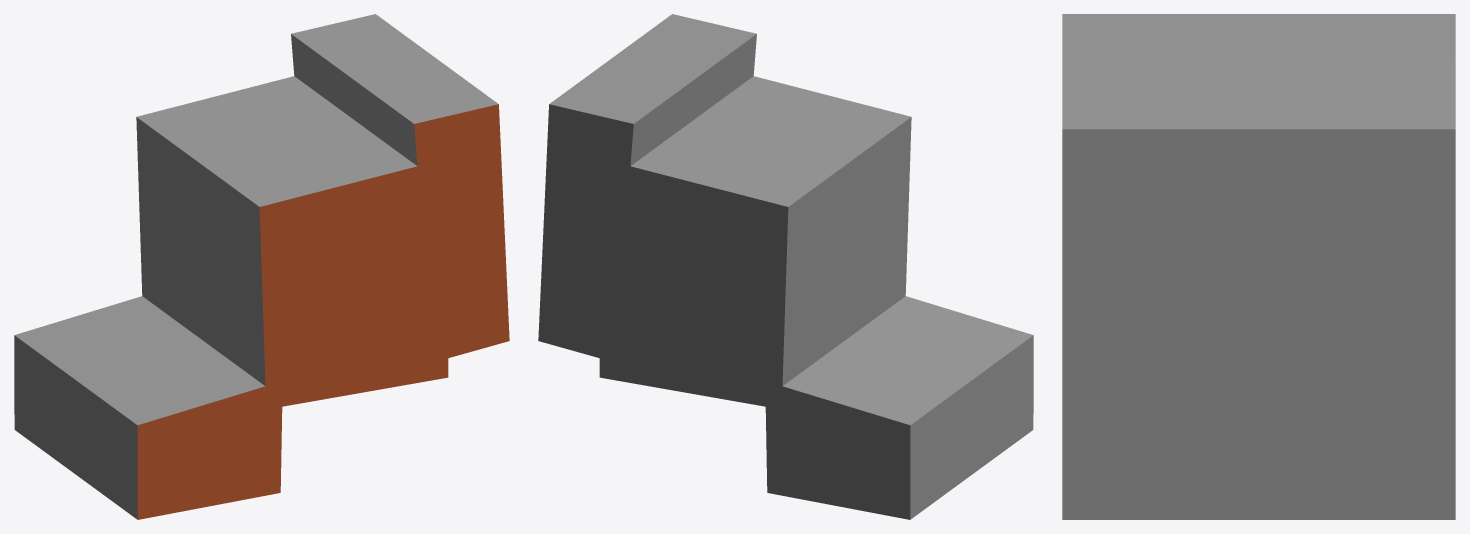
The model's file is construction_4972_assumed_A_Casa_h6m.obj.
3 renders of one model, left to right at view 1: azimuth 30°, elevation 25°; view 2: azimuth 150°, elevation 25°; view 3: azimuth 270°, elevation 25°, orthographic. The views are drawn at different scales.
Parts seen in each view (by area): view 1: construction_4972_assumed_A_Casa; view 2: construction_4972_assumed_A_Casa; view 3: construction_4972_assumed_A_Casa.
Boxes of the visible parts, bbox=[...] form: construction_4972_assumed_A_Casa: bbox=[14, 14, 509, 519]; construction_4972_assumed_A_Casa: bbox=[538, 14, 1033, 519]; construction_4972_assumed_A_Casa: bbox=[1062, 14, 1455, 519].
Bounding box in the file's own units: 10.46 × 9.03 × 6.
